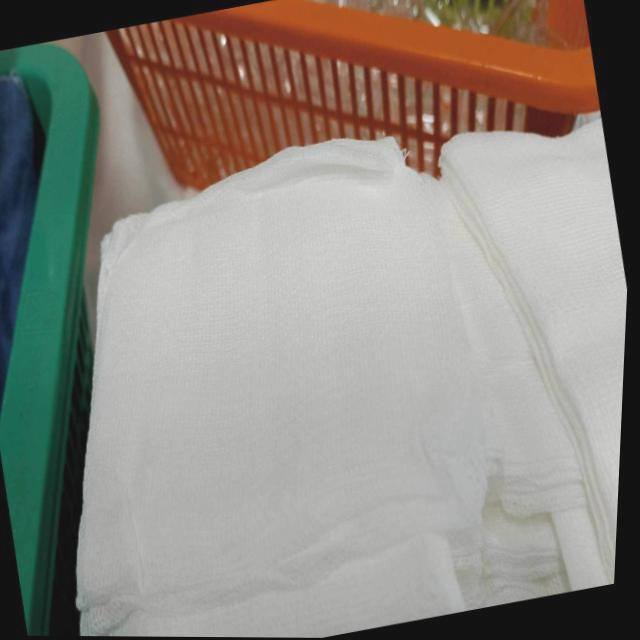General: (74, 117, 625, 636)
